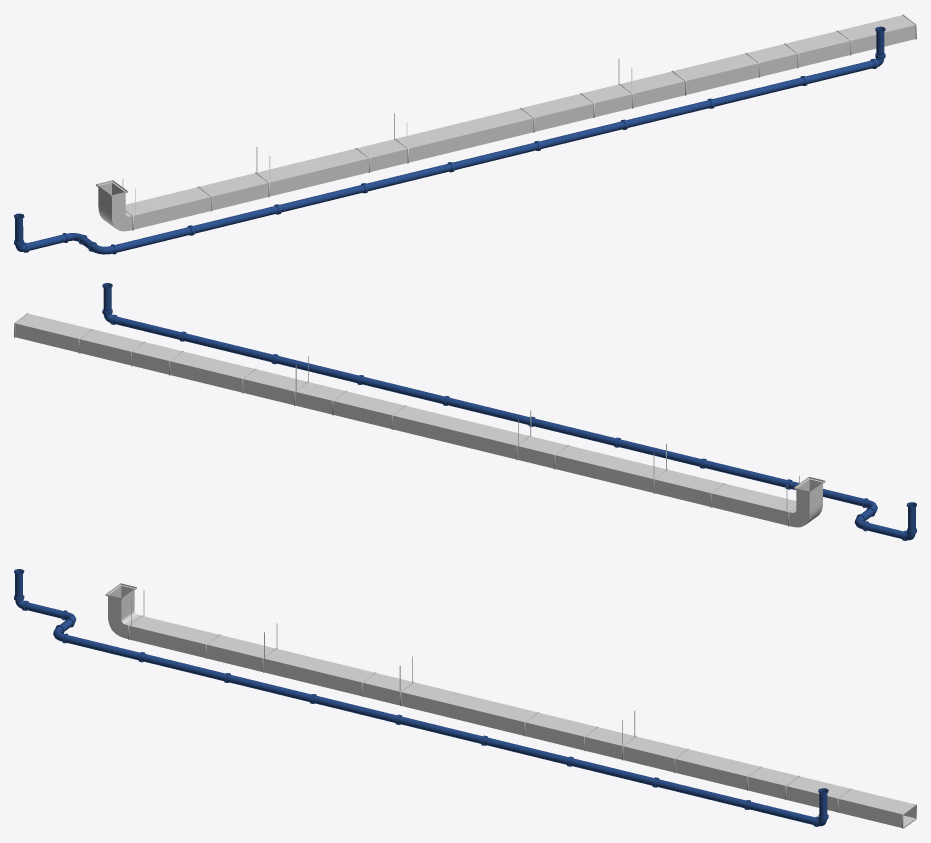
Rendered from SM_H_Building_Tide_Library_01G_ATLAS.fbx.
3 renders of one model, top to bottom at view 1: azimuth 30°, elevation 25°; view 2: azimuth 150°, elevation 25°; view 3: azimuth 330°, elevation 25°, orthographic.
Visible parts, largest first — view 1: SM_H_Building_Tide_Library_01G_ATLAS; view 2: SM_H_Building_Tide_Library_01G_ATLAS; view 3: SM_H_Building_Tide_Library_01G_ATLAS.
Part boxes in pixels (x1,y1,x2,y2): SM_H_Building_Tide_Library_01G_ATLAS: (14,14,916,254); SM_H_Building_Tide_Library_01G_ATLAS: (14,283,916,540); SM_H_Building_Tide_Library_01G_ATLAS: (14,569,916,828).
Bounding box in the file's own units: 3968 × 300 × 175.
